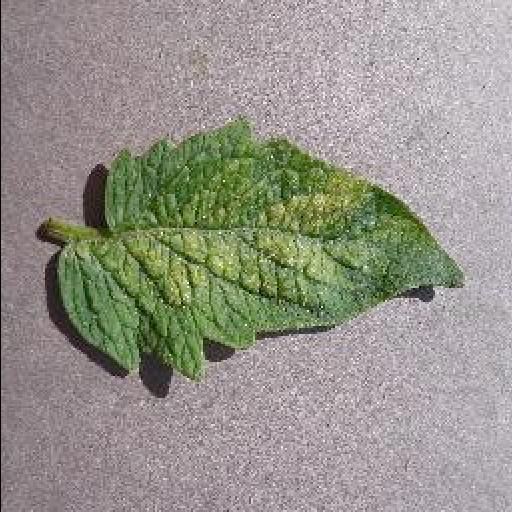disease_tomato: (58, 120, 468, 380)
